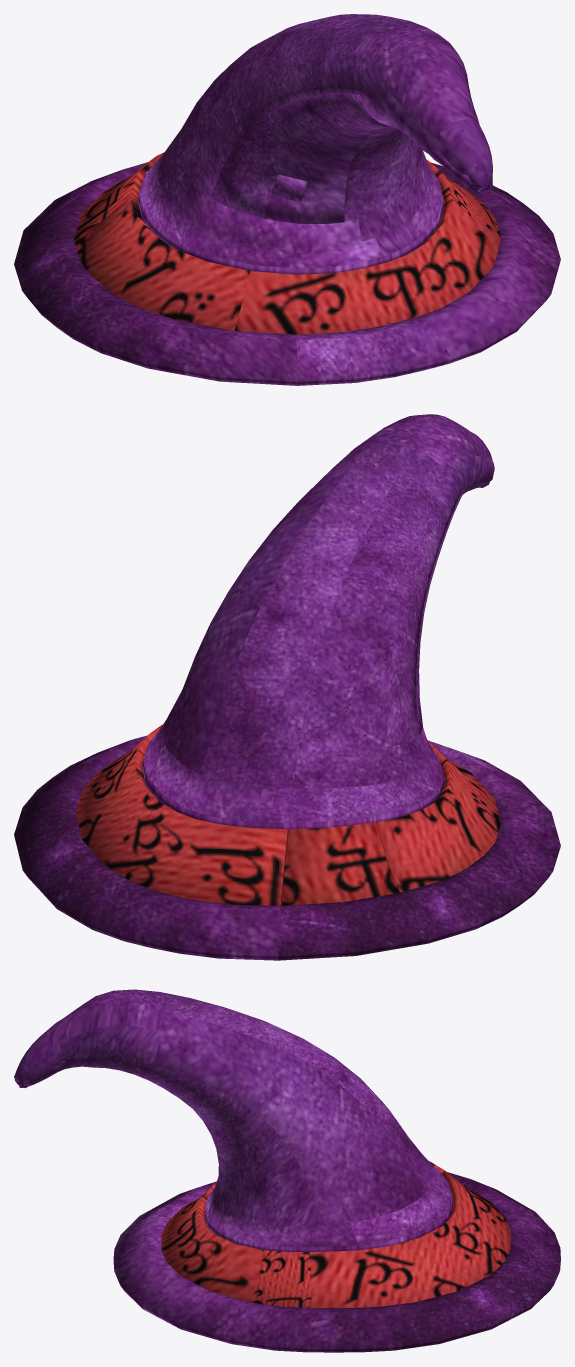
The model's file is Le chapeau .fbx.
3 views of the same model, one above another, from view 1: azimuth 30°, elevation 25°; view 2: azimuth 150°, elevation 25°; view 3: azimuth 270°, elevation 25° (orthographic). The views are drawn at different scales.
Visible parts, largest first — view 1: SurfCircle.004; view 2: SurfCircle.004; view 3: SurfCircle.004.
Boxes of the visible parts, bbox=[...] form: SurfCircle.004: bbox=[14, 14, 560, 385]; SurfCircle.004: bbox=[14, 414, 560, 960]; SurfCircle.004: bbox=[14, 989, 560, 1352].
Size of the model in its own units: 258 by 174 by 319.
